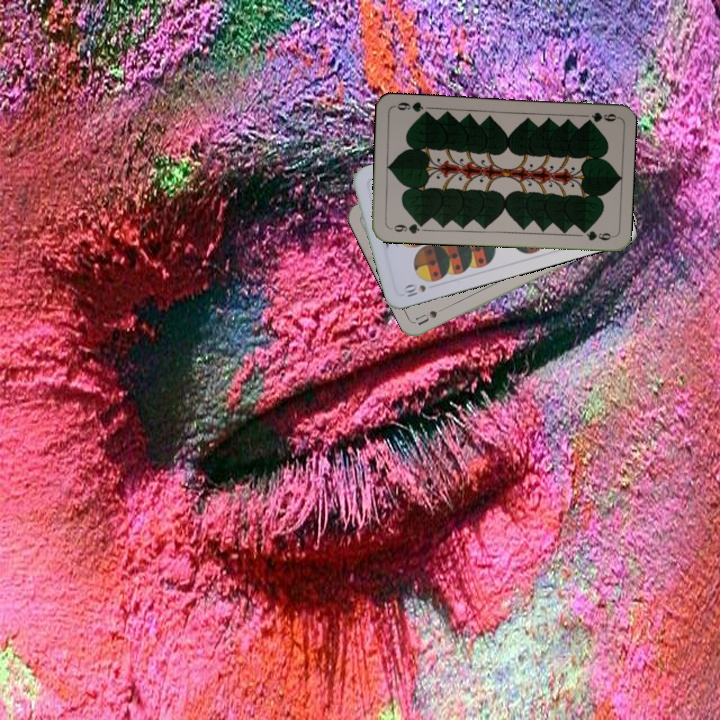G9: (386, 219, 427, 236), (582, 108, 620, 125)
S10: (399, 280, 428, 300)
SU: (412, 306, 440, 328)
